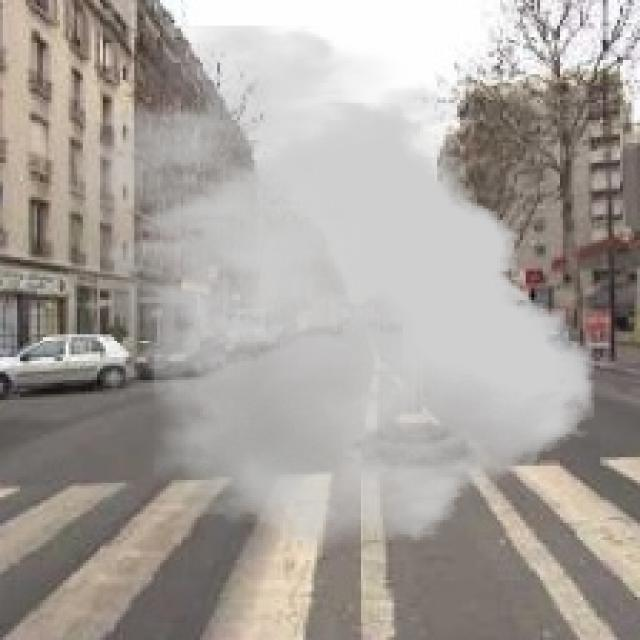smoke: (60, 26, 594, 548)
